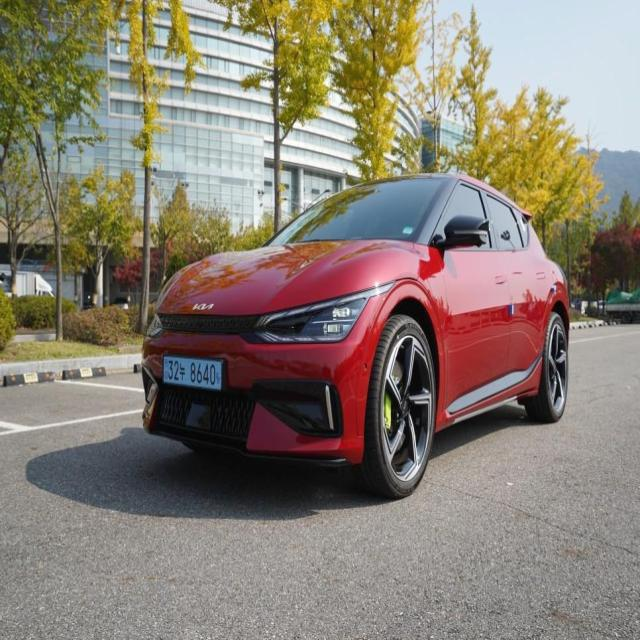EV_plate: (163, 350, 228, 398)
car: (138, 164, 570, 490)
